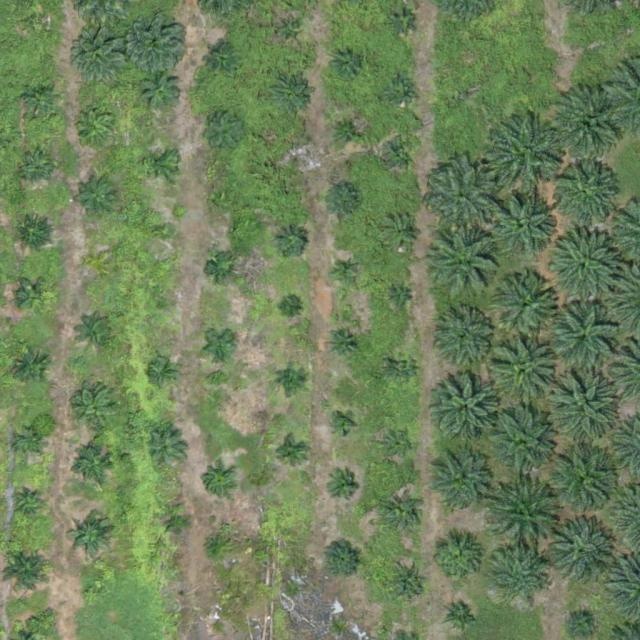Healthy: (490, 116, 568, 195), (544, 367, 622, 446), (547, 229, 618, 300), (554, 88, 624, 159), (547, 302, 617, 373), (549, 448, 619, 519), (491, 483, 561, 554), (489, 410, 559, 481), (491, 337, 561, 408), (545, 517, 615, 588), (428, 162, 498, 232), (434, 228, 504, 298), (495, 273, 558, 336), (492, 193, 554, 256), (129, 11, 191, 74), (429, 455, 491, 518), (554, 161, 616, 223), (436, 377, 498, 439), (439, 312, 494, 367), (74, 32, 129, 87), (492, 549, 547, 604), (211, 50, 235, 73), (18, 431, 41, 455)
Small: (430, 533, 484, 588), (67, 514, 114, 562), (200, 109, 247, 156), (323, 539, 363, 579), (389, 565, 429, 604), (148, 429, 187, 469), (12, 348, 51, 388), (80, 314, 119, 354), (78, 178, 117, 218), (323, 182, 363, 221), (142, 70, 181, 110), (444, 597, 483, 637), (386, 496, 425, 535), (75, 447, 114, 486), (76, 391, 115, 430), (272, 76, 311, 115), (15, 213, 54, 252), (21, 82, 60, 121), (78, 110, 117, 149), (275, 437, 306, 469), (328, 471, 359, 503), (386, 217, 417, 249), (146, 147, 177, 179), (275, 226, 306, 258), (333, 114, 364, 146), (161, 508, 192, 540), (200, 530, 231, 562), (389, 354, 420, 385), (276, 365, 307, 396), (206, 330, 237, 361), (19, 281, 50, 312), (148, 357, 179, 388), (203, 466, 234, 497), (20, 152, 51, 183), (332, 46, 363, 77), (208, 255, 239, 286), (386, 138, 417, 169), (388, 7, 419, 38), (385, 76, 416, 107), (273, 16, 304, 47), (330, 257, 361, 288), (382, 428, 413, 459), (330, 328, 361, 359), (12, 488, 42, 520), (566, 610, 597, 640), (212, 190, 236, 214), (332, 412, 356, 436), (29, 11, 53, 34), (209, 619, 225, 635), (289, 148, 305, 163), (393, 291, 408, 307), (282, 300, 298, 315), (157, 295, 172, 311), (91, 257, 107, 272), (85, 586, 100, 602), (157, 223, 172, 238)
